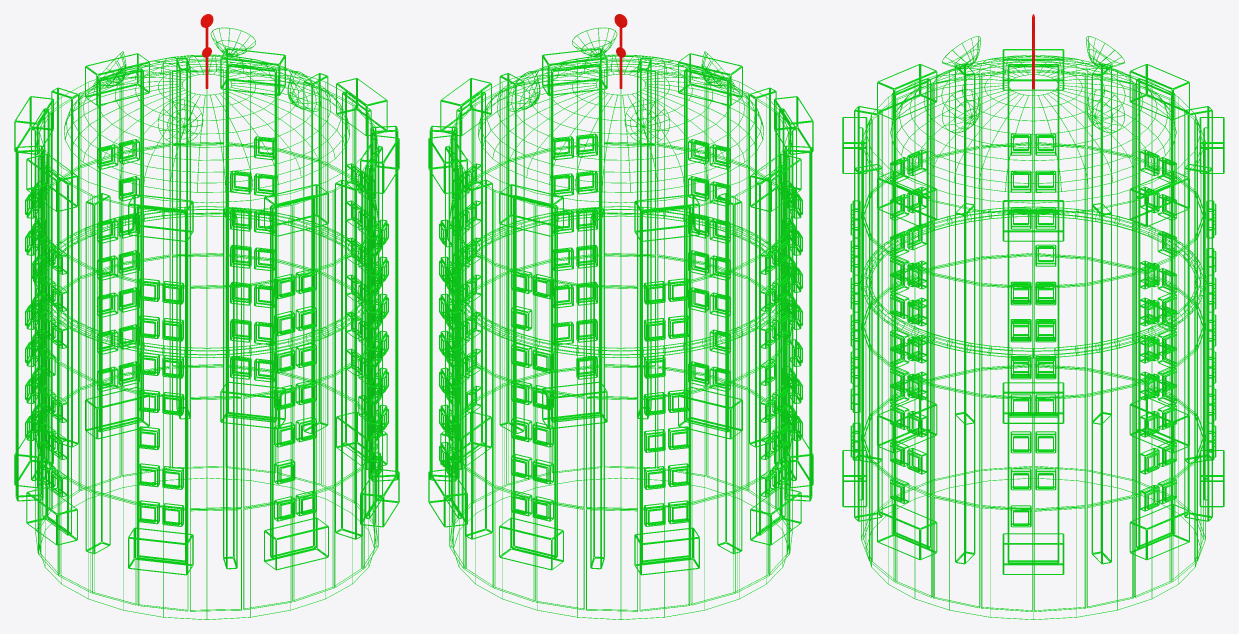
The model's file is repair-facility-highlight-droid-antennae.glb.
3 views of the same model, side by side, from view 1: azimuth 30°, elevation 25°; view 2: azimuth 150°, elevation 25°; view 3: azimuth 270°, elevation 25° (orthographic).
Visible parts, largest first — view 1: chassis technical wire, droid-ports technical wire, four-data-dishes technical wire; view 2: chassis technical wire, droid-ports technical wire, four-data-dishes technical wire; view 3: chassis technical wire, droid-ports technical wire, four-data-dishes technical wire.
Boxes of the visible parts, x1=… form: chassis technical wire: x1=14, y1=48, x2=399, y2=619; droid-ports technical wire: x1=25, y1=136, x2=388, y2=526; four-data-dishes technical wire: x1=93, y1=27, x2=320, y2=144; chassis technical wire: x1=428, y1=48, x2=813, y2=619; droid-ports technical wire: x1=439, y1=133, x2=802, y2=526; four-data-dishes technical wire: x1=507, y1=27, x2=734, y2=144; chassis technical wire: x1=842, y1=49, x2=1224, y2=619; droid-ports technical wire: x1=850, y1=133, x2=1216, y2=527; four-data-dishes technical wire: x1=942, y1=36, x2=1124, y2=132.
Bounding box in the file's own units: 1.87 × 2.89 × 1.87.
